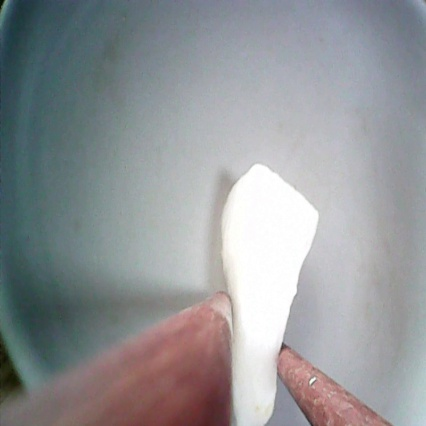white_chinese-yam: (217, 162, 327, 426)
